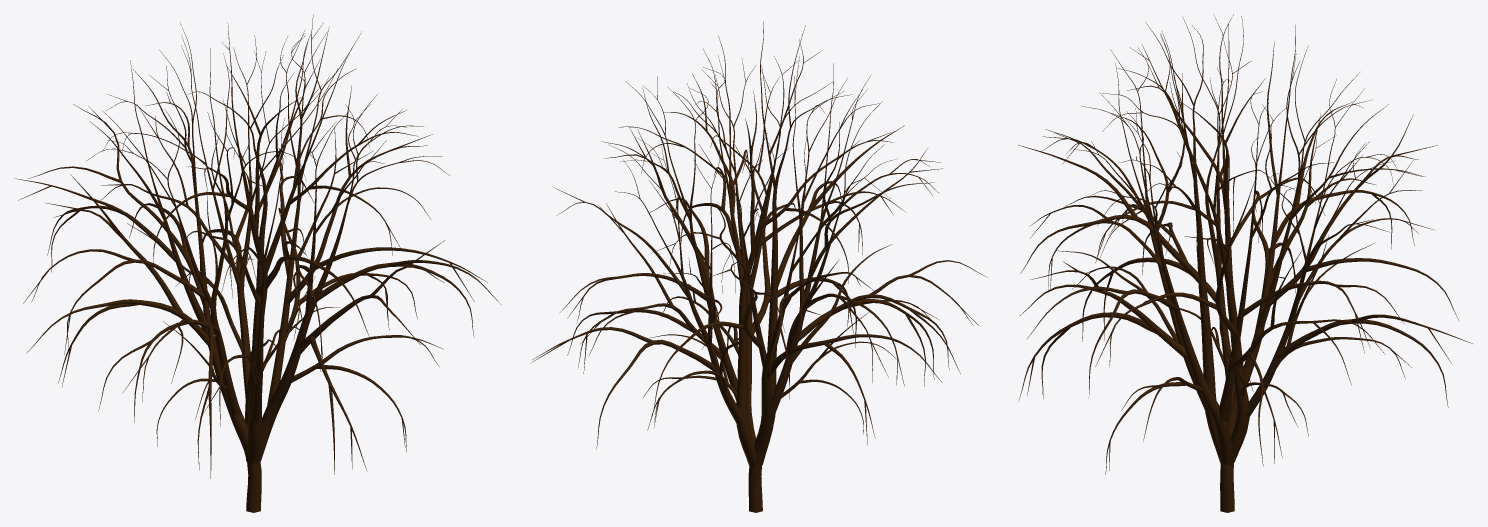
Rendered from Tree.fbx.
3 views of the same model, side by side, from view 1: azimuth 30°, elevation 25°; view 2: azimuth 150°, elevation 25°; view 3: azimuth 270°, elevation 25° (orthographic). The views are drawn at different scales.
Parts seen in each view (by area): view 1: Tree; view 2: Tree; view 3: Tree.
Boxes of the visible parts, <box> form: Tree: <box>14,14,501,512</box>; Tree: <box>530,22,986,512</box>; Tree: <box>1018,14,1472,512</box>.
Size of the model in its own units: 1156 by 1387 by 1169.
